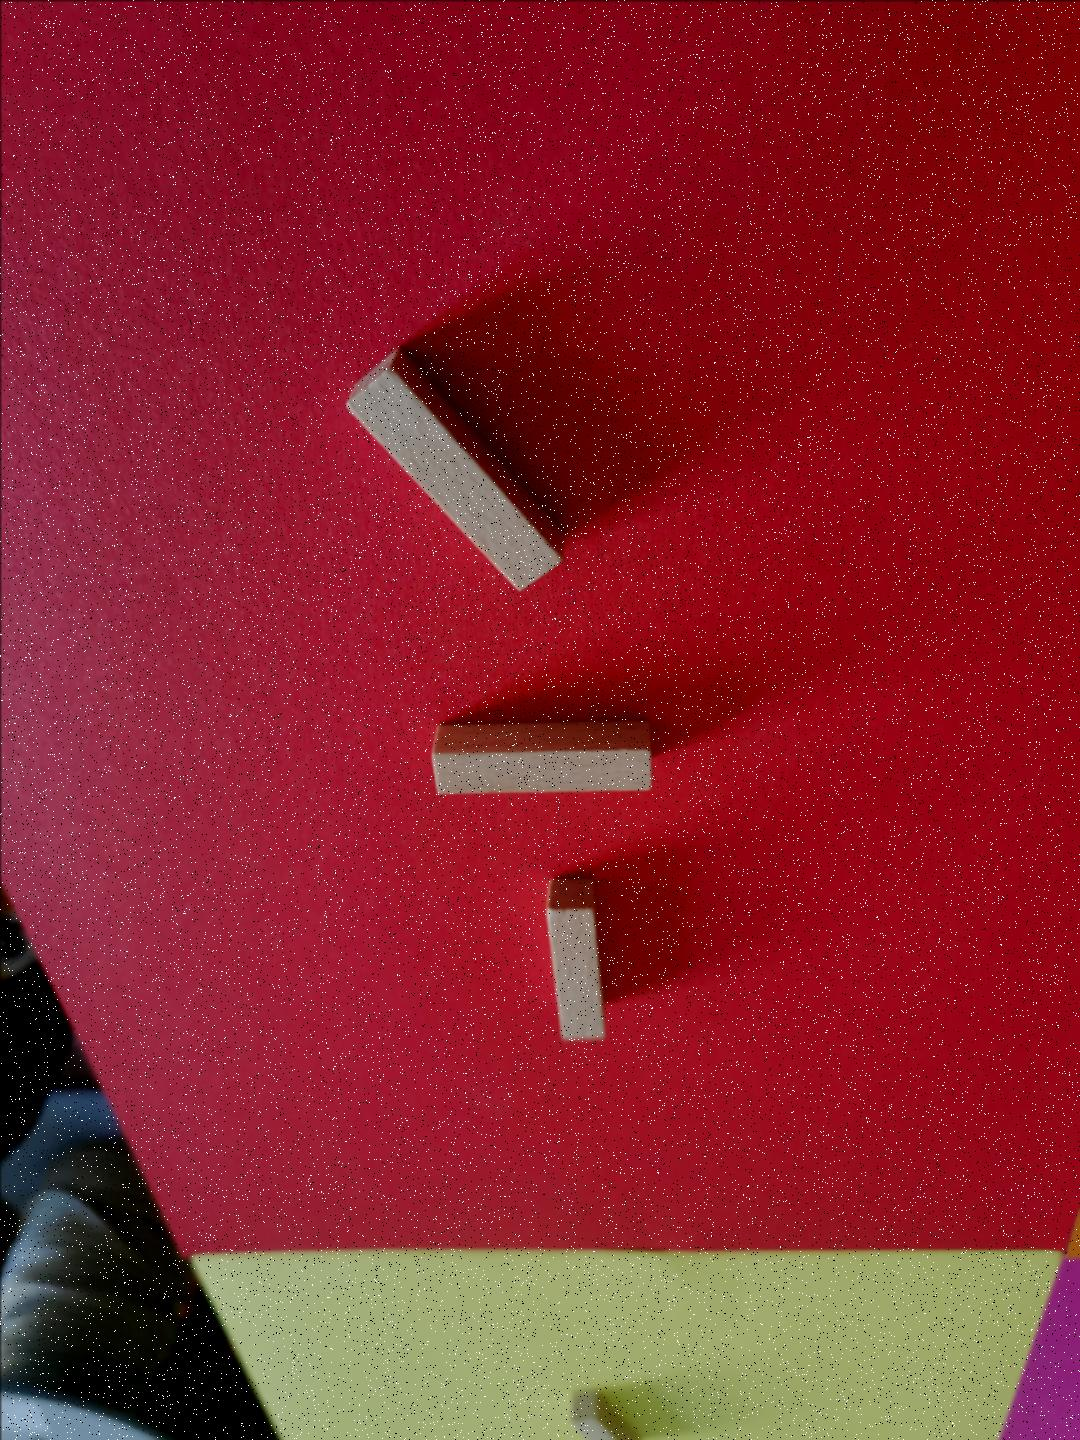jenga: (346, 349, 565, 588), (430, 720, 650, 793), (546, 878, 605, 1041)
